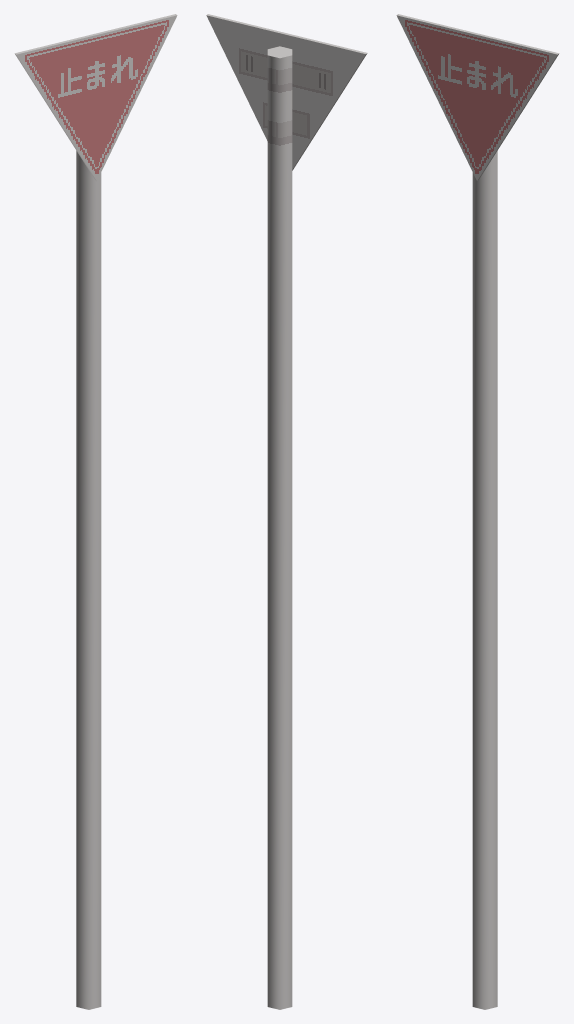
File: 0452_Stop_Sign.glb
3 views of the same model, side by side, from view 1: azimuth 30°, elevation 25°; view 2: azimuth 150°, elevation 25°; view 3: azimuth 330°, elevation 25° (orthographic).
Visible parts, largest first — view 1: part_0; view 2: part_0; view 3: part_0.
Part boxes in pixels (x1=…): part_0: x1=14, y1=14, x2=177, y2=1009; part_0: x1=206, y1=14, x2=367, y2=1009; part_0: x1=396, y1=14, x2=559, y2=1009.
Size of the model in its own units: 0.5196 by 3 by 0.0795.
Materials: 1 (1 with a texture image).
